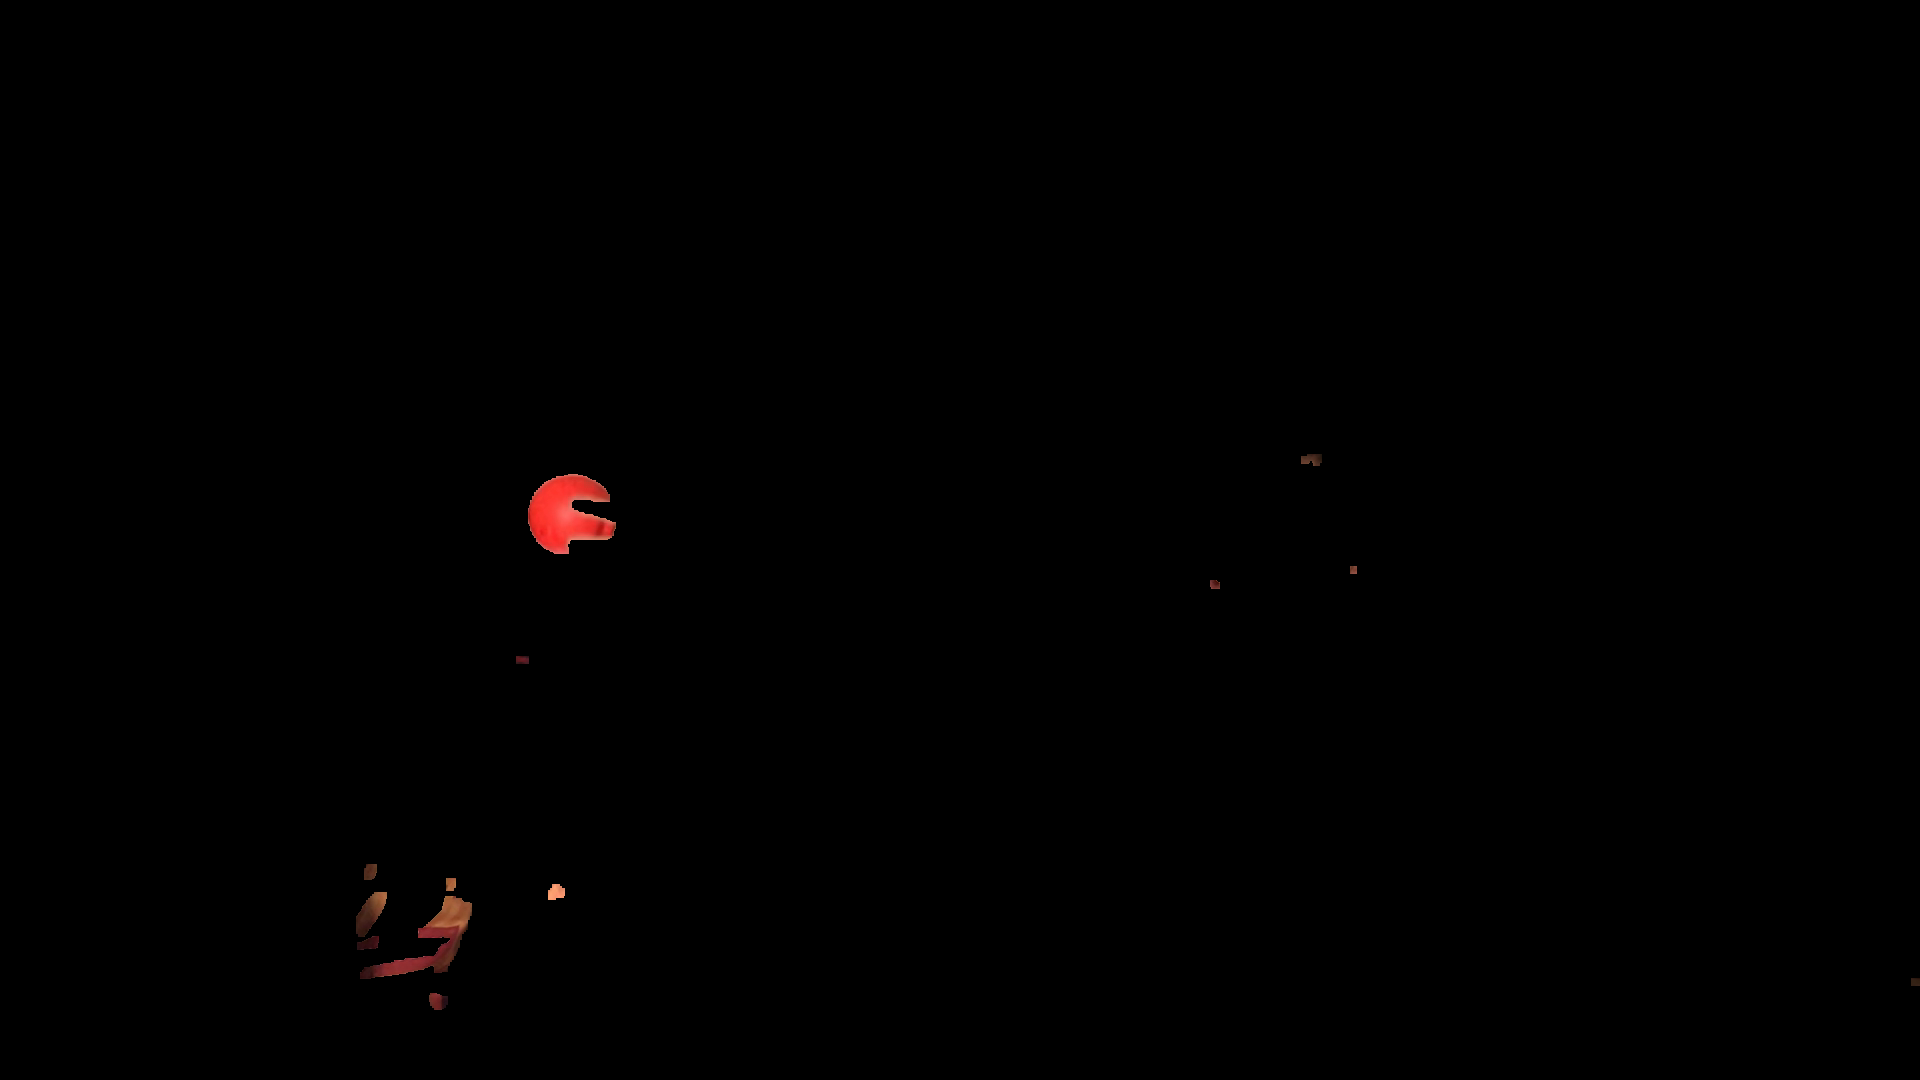Ball: (527, 473, 615, 560)
